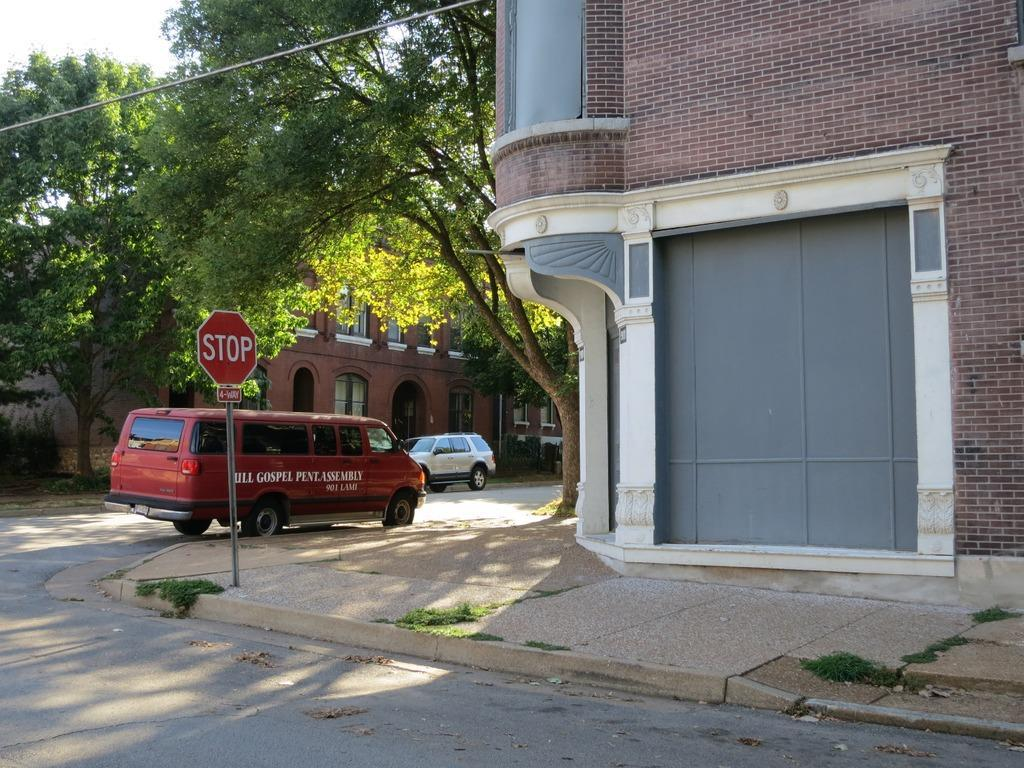door: (646, 232, 928, 553)
